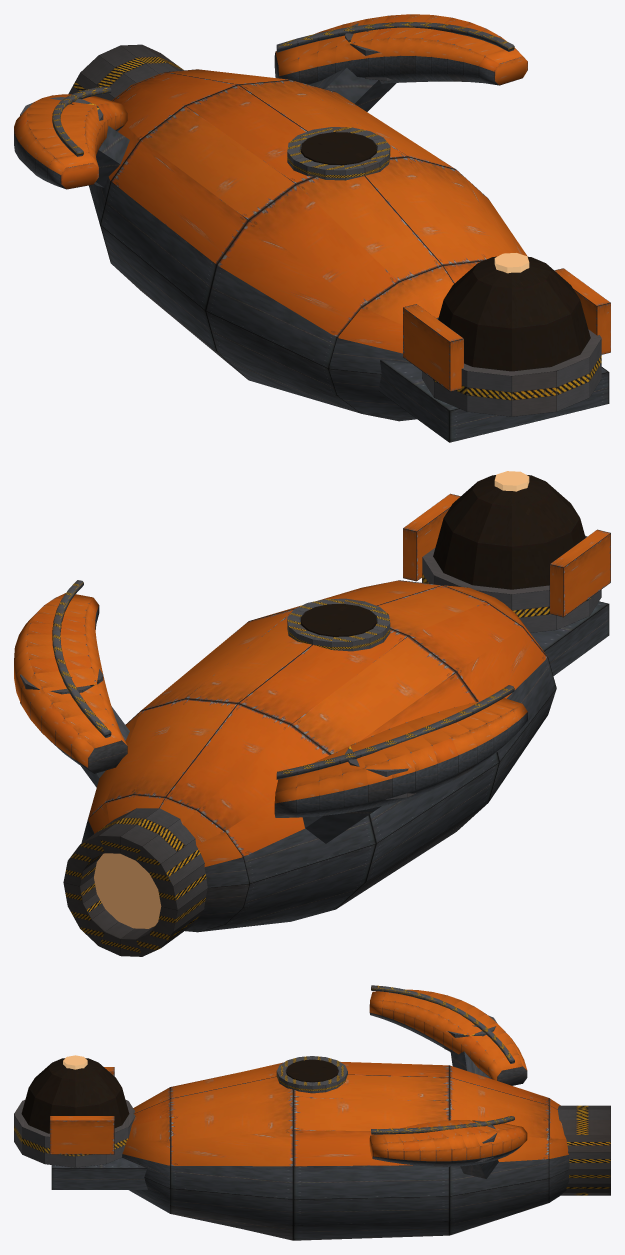
File: pioneer-saturn-l01-shield.glb
3 renders of one model, top to bottom at view 1: azimuth 30°, elevation 25°; view 2: azimuth 150°, elevation 25°; view 3: azimuth 270°, elevation 25°, orthographic. The views are drawn at different scales.
Visible parts, largest first — view 1: Drone; view 2: Drone; view 3: Drone.
Part boxes in pixels (x1=…): Drone: x1=14, y1=14, x2=610, y2=442; Drone: x1=14, y1=471, x2=610, y2=956; Drone: x1=14, y1=985, x2=610, y2=1240.
Bounding box in the file's own units: 0.7866 × 0.3952 × 1.26.
Materials: 3 (3 with a texture image).
